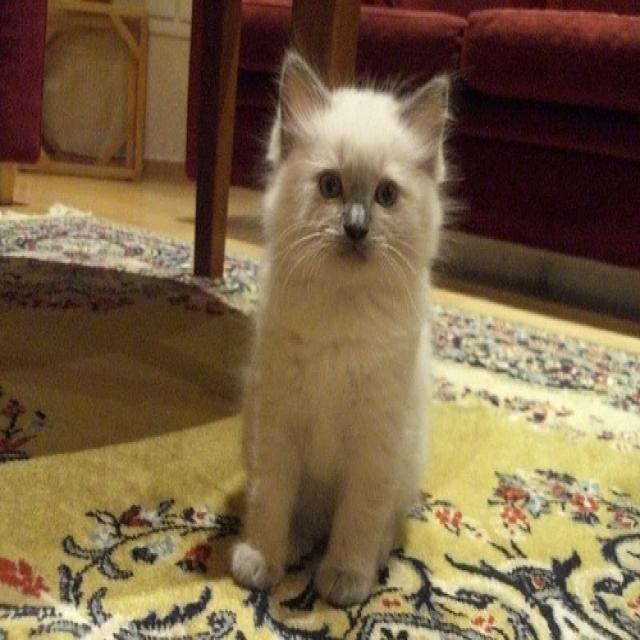cat: (229, 49, 448, 604)
